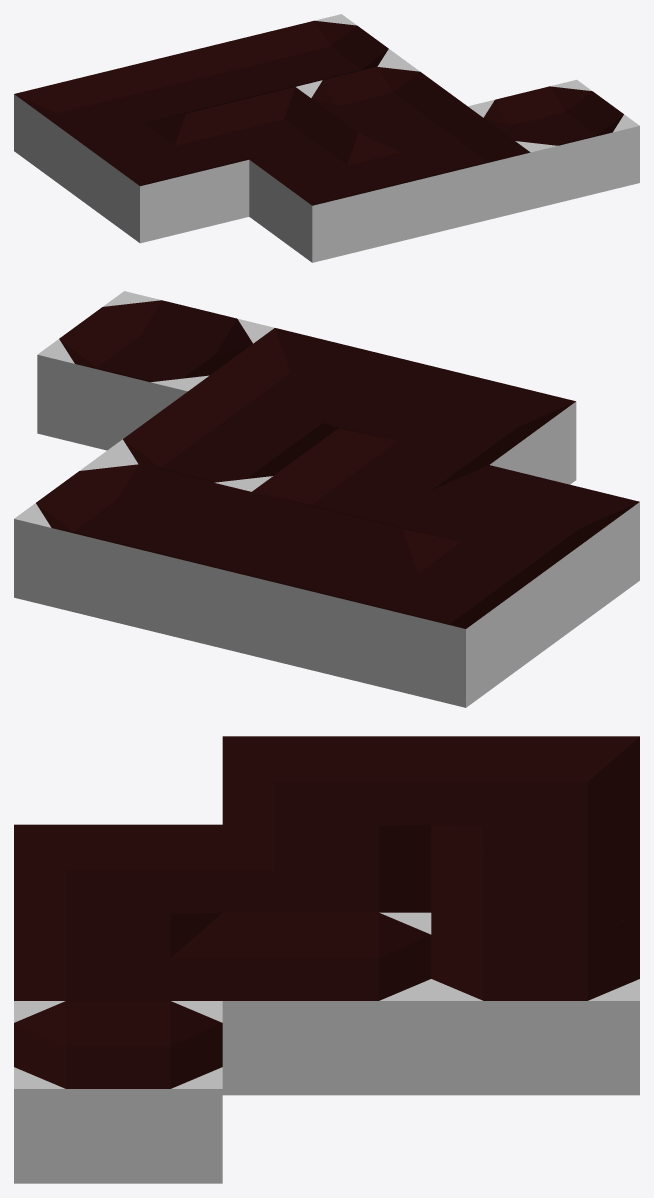
File: 2s_path.obj
3 renders of one model, top to bottom at view 1: azimuth 30°, elevation 25°; view 2: azimuth 150°, elevation 25°; view 3: azimuth 270°, elevation 25°, orthographic. The views are drawn at different scales.
Parts seen in each view (by area): view 1: corner.1.1_corner.014, corner.2.0_corner.016, hole.4.0_Cube.003, corner.3.0_corner.018, corner.1.2_corner.015, corner.2.1_corner.017, ending.3.1_ending.005, ending.3.2_ending.006, through.2.2_through.002; view 2: corner.1.2_corner.015, ending.3.2_ending.006, through.2.2_through.002, hole.4.0_Cube.003, corner.1.1_corner.014, corner.2.0_corner.016, corner.3.0_corner.018, corner.2.1_corner.017, ending.3.1_ending.005; view 3: ending.3.1_ending.005, hole.4.0_Cube.003, ending.3.2_ending.006, corner.1.1_corner.014, corner.2.0_corner.016, corner.1.2_corner.015, through.2.2_through.002, corner.2.1_corner.017, corner.3.0_corner.018.
Part boxes in pixels (<box>): corner.1.1_corner.014: <box>77,114,249,243</box>; corner.2.0_corner.016: <box>249,133,421,262</box>; hole.4.0_Cube.003: <box>468,79,639,209</box>; corner.3.0_corner.018: <box>358,106,530,235</box>; corner.1.2_corner.015: <box>14,67,185,196</box>; corner.2.1_corner.017: <box>186,87,357,167</box>; ending.3.1_ending.005: <box>296,60,467,140</box>; ending.3.2_ending.006: <box>233,14,404,89</box>; through.2.2_through.002: <box>123,40,292,116</box>; corner.1.2_corner.015: <box>315,529,552,707</box>; ending.3.2_ending.006: <box>14,455,251,634</box>; through.2.2_through.002: <box>164,492,401,670</box>; hole.4.0_Cube.003: <box>37,291,274,450</box>; corner.1.1_corner.014: <box>403,465,639,643</box>; corner.2.0_corner.016: <box>339,364,576,484</box>; corner.3.0_corner.018: <box>188,328,425,438</box>; corner.2.1_corner.017: <box>252,428,488,532</box>; ending.3.1_ending.005: <box>101,391,337,491</box>; ending.3.1_ending.005: <box>222,912,431,1095</box>; hole.4.0_Cube.003: <box>14,1001,222,1183</box>; ending.3.2_ending.006: <box>431,913,639,1095</box>; corner.1.1_corner.014: <box>222,736,431,848</box>; corner.2.0_corner.016: <box>14,824,222,936</box>; corner.1.2_corner.015: <box>431,736,639,848</box>; through.2.2_through.002: <box>431,824,639,936</box>; corner.2.1_corner.017: <box>222,825,431,912</box>; corner.3.0_corner.018: <box>14,913,222,1000</box>.
Bounding box in the file's own units: 8 × 1 × 6.
